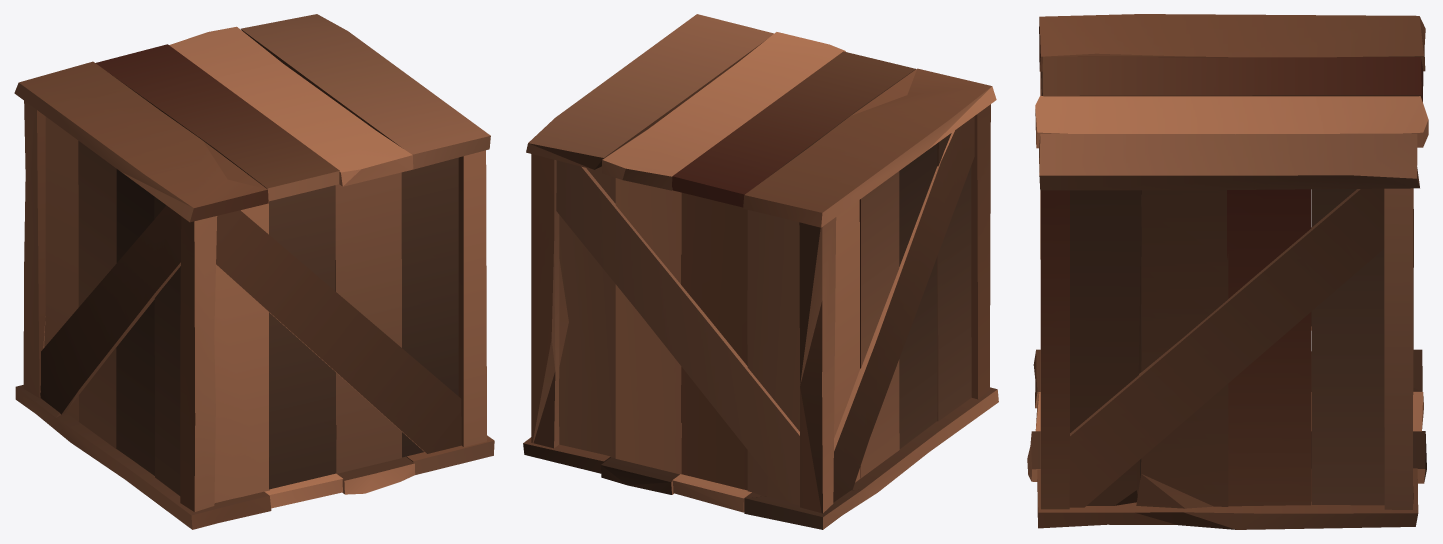
File: chest.fbx
The picture shows the model from 3 angles, left to right: view 1: azimuth 30°, elevation 25°; view 2: azimuth 150°, elevation 25°; view 3: azimuth 270°, elevation 25°; orthographic projection. The views are drawn at different scales.
Parts seen in each view (by area): view 1: boxShabby; view 2: boxShabby; view 3: boxShabby.
Boxes of the visible parts, x1=… form: boxShabby: x1=14, y1=14, x2=494, y2=529; boxShabby: x1=523, y1=14, x2=998, y2=529; boxShabby: x1=1027, y1=14, x2=1428, y2=529.
Bounding box in the file's own units: 98.1 × 100 × 101.
